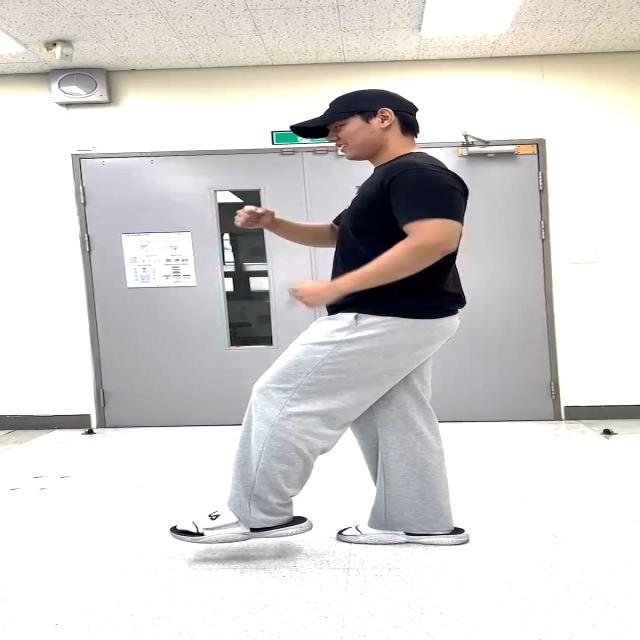leg: (209, 304, 362, 549)
